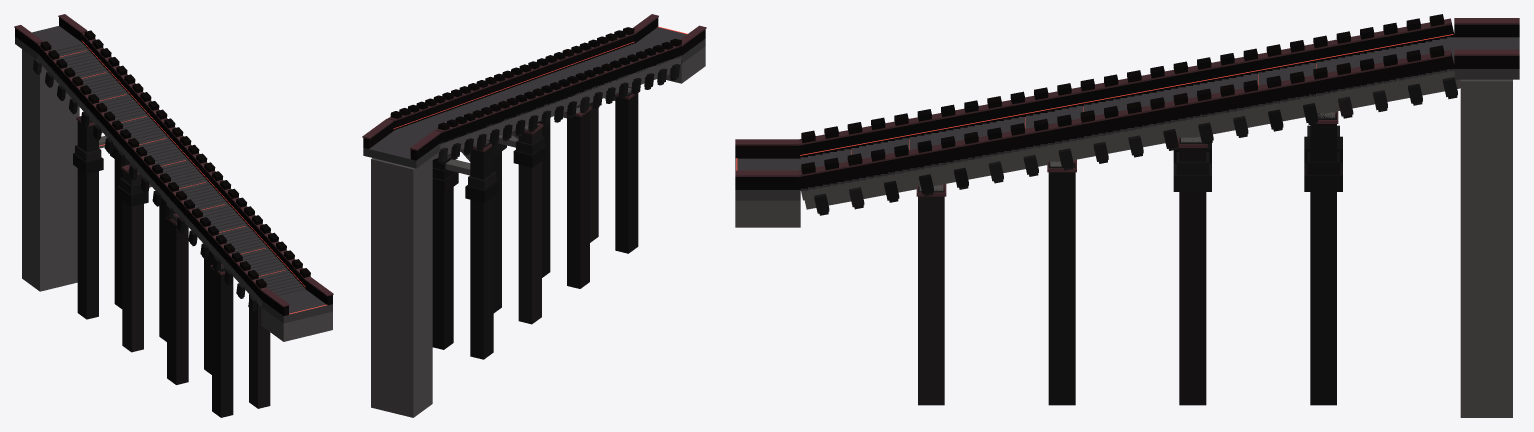
Rendered from staircase.fbx.
The picture shows the model from 3 angles, left to right: view 1: azimuth 30°, elevation 25°; view 2: azimuth 150°, elevation 25°; view 3: azimuth 270°, elevation 25°; orthographic projection. The views are drawn at different scales.
Parts seen in each view (by area): view 1: Side_L_Pillar, Center_Pillar, Center_Deck, Side_R_Pillar, Side_L_Wall, Side_R_Wall, Side_L_Rust, Side_R_Rust, Center_Glow, Side_R_Glow; view 2: Side_L_Pillar, Center_Pillar, Side_R_Pillar, Center_Deck, Side_L_Wall, Side_R_Wall, Side_L_Rust, Side_R_Rust; view 3: Side_R_Pillar, Center_Pillar, Side_R_Wall, Side_L_Wall, Center_Deck, Side_R_Rust, Side_L_Rust, Side_L_Glow.
Part boxes in pixels (x1,y1,x2,y2): Side_L_Pillar: [33, 58, 257, 417]; Center_Pillar: [22, 49, 332, 341]; Center_Deck: [15, 26, 332, 323]; Side_R_Pillar: [110, 145, 270, 408]; Side_L_Wall: [15, 28, 288, 315]; Side_R_Wall: [59, 17, 332, 305]; Side_L_Rust: [14, 25, 289, 306]; Side_R_Rust: [58, 14, 333, 296]; Center_Glow: [59, 50, 326, 314]; Side_R_Glow: [82, 41, 305, 286]; Side_L_Pillar: [438, 64, 679, 359]; Center_Pillar: [371, 46, 705, 417]; Side_R_Pillar: [432, 102, 598, 349]; Center_Deck: [363, 27, 705, 168]; Side_L_Wall: [410, 29, 705, 160]; Side_R_Wall: [363, 18, 658, 148]; Side_L_Rust: [410, 25, 706, 151]; Side_R_Rust: [362, 14, 658, 139]; Side_R_Pillar: [814, 77, 1457, 405]; Center_Pillar: [735, 69, 1512, 417]; Side_R_Wall: [735, 45, 1519, 189]; Side_L_Wall: [735, 14, 1519, 158]; Center_Deck: [735, 37, 1519, 200]; Side_R_Rust: [735, 49, 1519, 196]; Side_L_Rust: [735, 18, 1519, 145]; Side_L_Glow: [800, 34, 1453, 155].
Size of the model in its own units: 3160 by 13818 by 26400.
